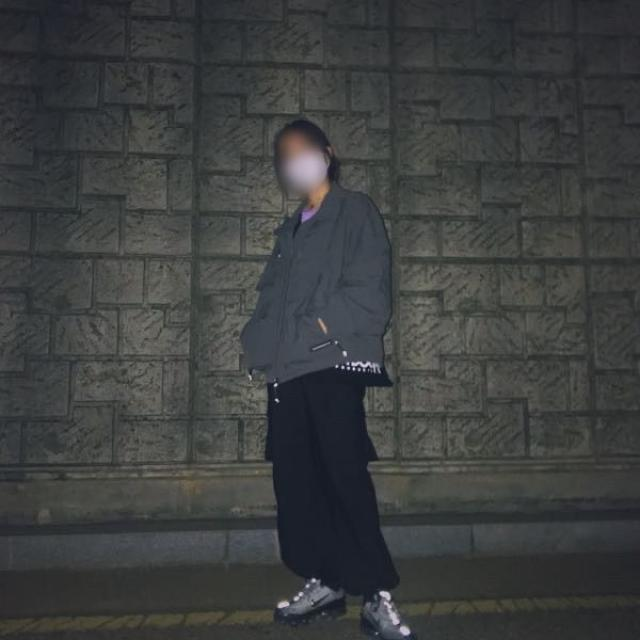cottonpants: (272, 362, 402, 592)
jacket: (246, 183, 398, 389)
